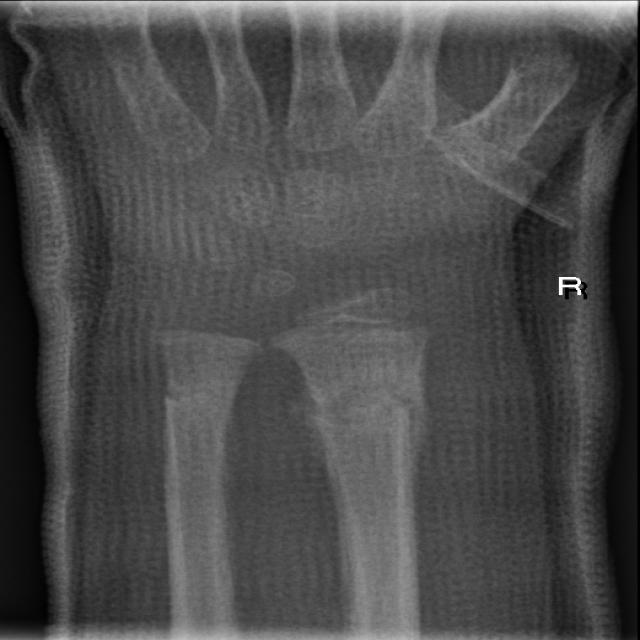radius fracture: (274, 354, 466, 496)
ulna fracture: (148, 340, 258, 470)
